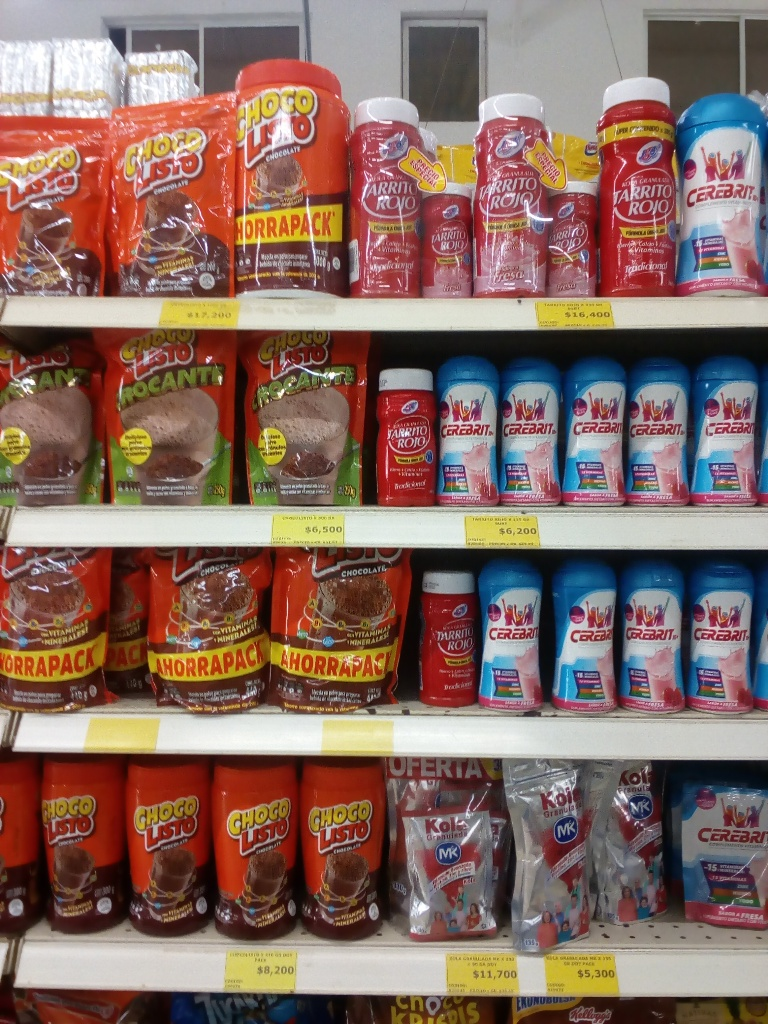COL0170103DYP44000: (128, 547, 271, 716)
COL0170103TRR00100: (221, 55, 344, 294)
